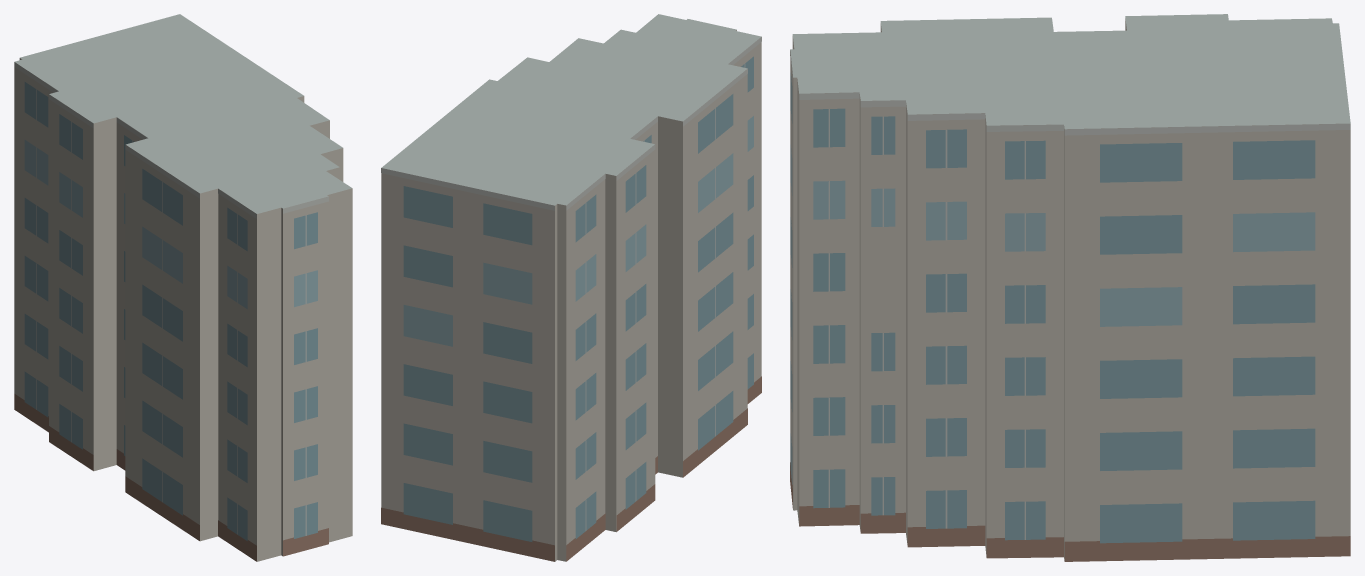
Rendered from survey-upis-33038452.glb.
3 renders of one model, left to right at view 1: azimuth 30°, elevation 25°; view 2: azimuth 150°, elevation 25°; view 3: azimuth 270°, elevation 25°, orthographic. The views are drawn at different scales.
Parts seen in each view (by area): view 1: survey-upis-33038452.tmp; view 2: survey-upis-33038452.tmp; view 3: survey-upis-33038452.tmp.
Boxes of the visible parts, left/top/right/bottom form: survey-upis-33038452.tmp: left=14, top=14, right=352, bottom=561; survey-upis-33038452.tmp: left=381, top=14, right=761, bottom=561; survey-upis-33038452.tmp: left=790, top=14, right=1350, bottom=561.
Bounding box in the file's own units: 9.49 × 16.6 × 19.5.
